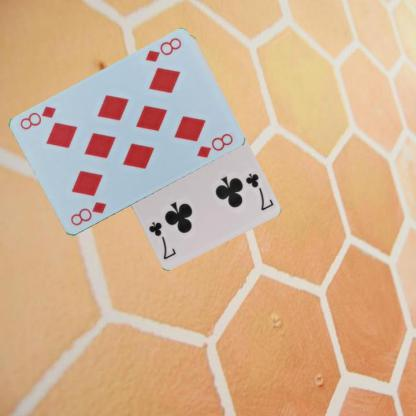7c: (242, 170, 275, 212)
8d: (68, 199, 108, 228), (142, 35, 182, 64)
